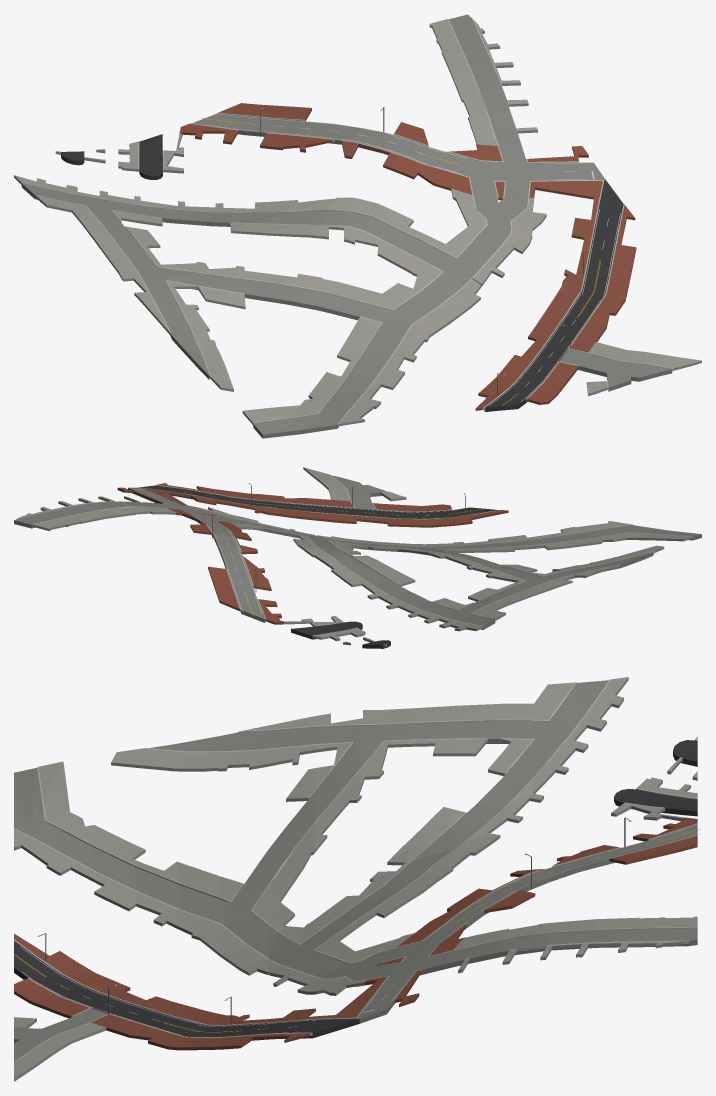
File: 18-218885-118977.86ebfc3d.glb
3 views of the same model, one above another, from view 1: azimuth 30°, elevation 25°; view 2: azimuth 150°, elevation 25°; view 3: azimuth 270°, elevation 25° (orthographic). The views are drawn at different scales.
Bounding box in the file's own units: 147 × 41.36 × 147.
